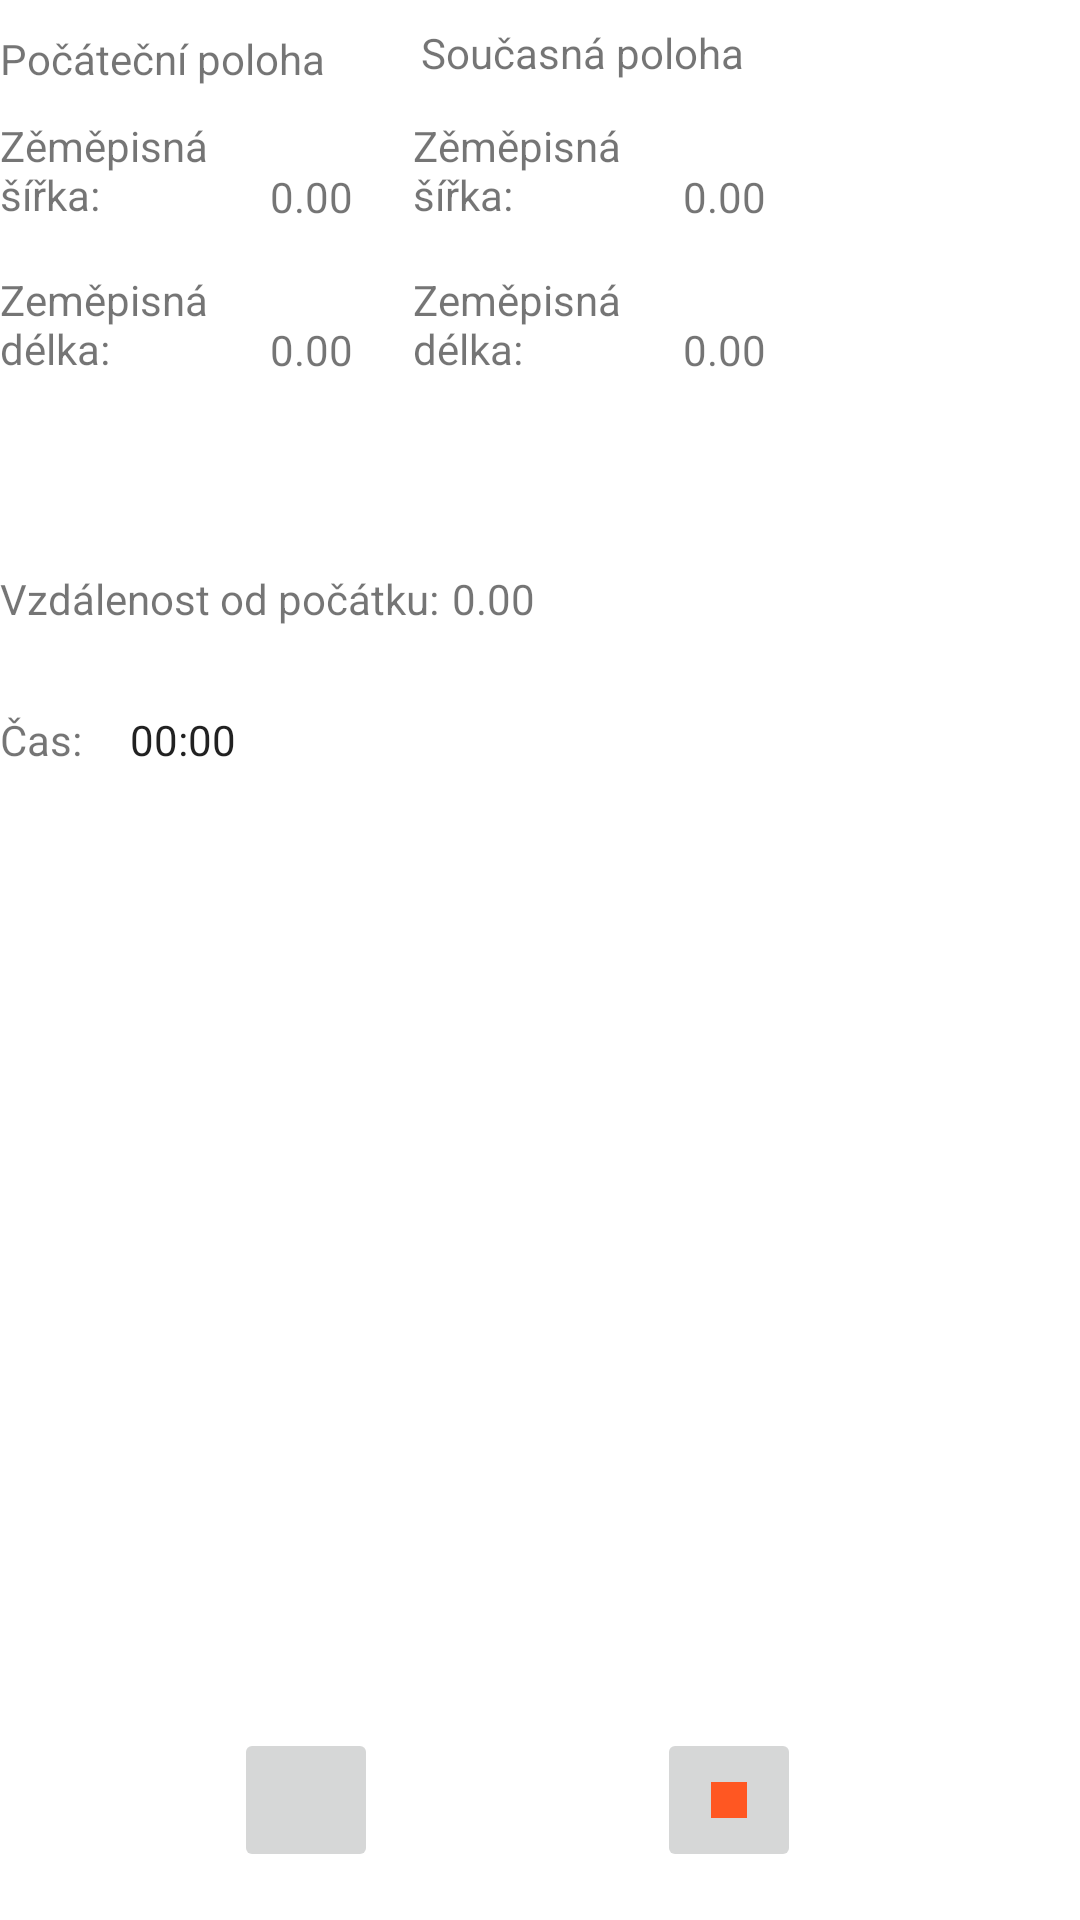

Screen size 1080 × 1920. Icon name, then its center in pixels as [x,y]:
Stop: [729,1800]
